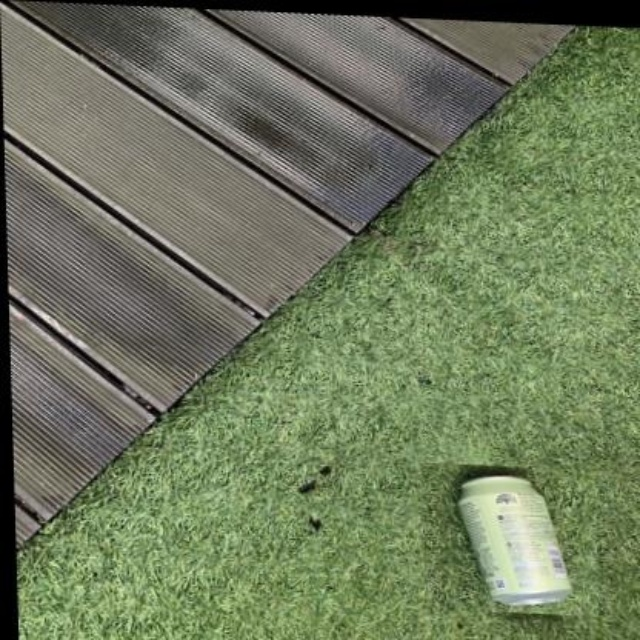trash: (458, 475, 569, 605)
